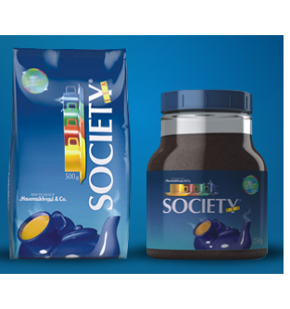society: (7, 47, 130, 263), (143, 157, 272, 260)
